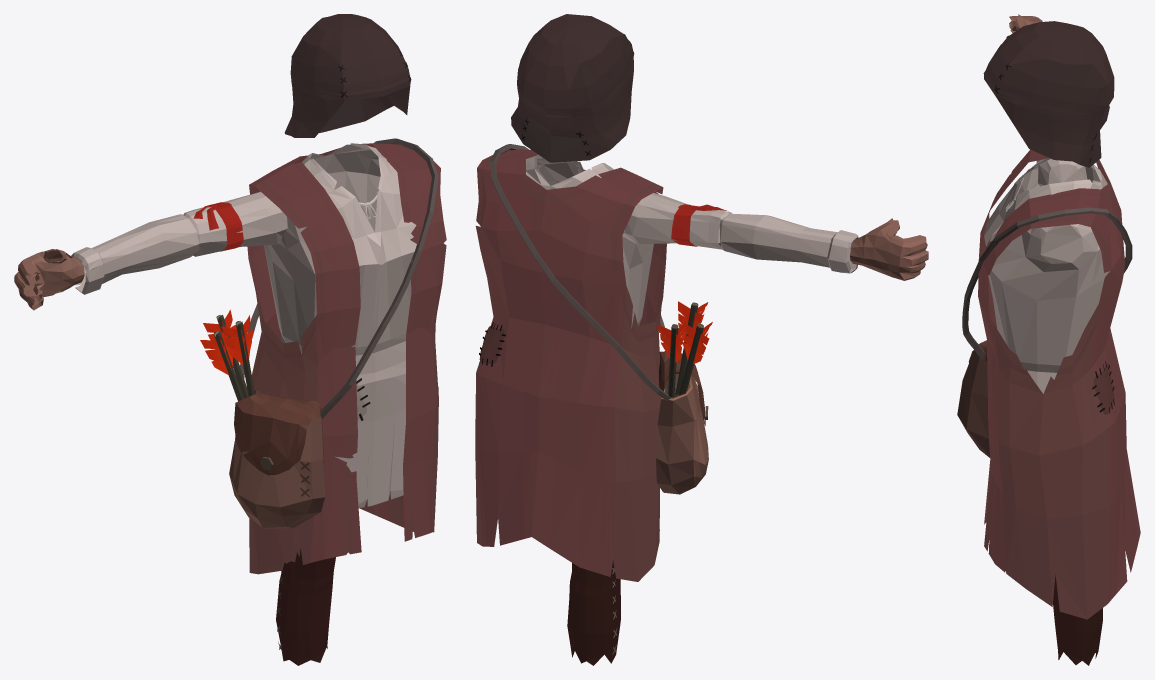
File: peasantFemale.glb
3 renders of one model, left to right at view 1: azimuth 30°, elevation 25°; view 2: azimuth 150°, elevation 25°; view 3: azimuth 270°, elevation 25°, orthographic. The views are drawn at different scales.
Visible parts, largest first — view 1: peasantCoat, peasantManShirt, peasantBagQuiver, peasantManHat, peasantManLowerArm, peasantPantsLowerLeg, peasantManUpperArm, peasantGlove, peasantsPantsUpperLeg; view 2: peasantCoat, peasantManHat, peasantBagQuiver, peasantManLowerArm, peasantPantsLowerLeg, peasantManUpperArm, peasantManShirt, peasantGlove; view 3: peasantCoat, peasantManShirt, peasantManHat, peasantBagQuiver, peasantPantsLowerLeg, peasantManUpperArm, peasantGlove.
Part boxes in pixels (x1,y1,x2,y2): peasantCoat: (247,143,446,574); peasantManShirt: (264,143,416,507); peasantBagQuiver: (200,138,438,528); peasantManHat: (284,14,411,137); peasantManLowerArm: (71,214,199,294); peasantPantsLowerLeg: (276,563,333,665); peasantManUpperArm: (183,191,287,256); peasantGlove: (14,249,84,310); peasantsPantsUpperLeg: (286,548,335,579); peasantCoat: (475,149,666,581); peasantManHat: (511,14,634,162); peasantBagQuiver: (490,144,712,494); peasantManLowerArm: (719,213,858,273); peasantPantsLowerLeg: (567,560,620,665); peasantManUpperArm: (624,193,731,249); peasantManShirt: (526,154,653,328); peasantGlove: (850,218,928,280); peasantCoat: (978,149,1140,619); peasantManShirt: (984,157,1109,393); peasantManHat: (983,21,1114,167); peasantBagQuiver: (957,207,1132,457); peasantPantsLowerLeg: (1053,575,1102,665); peasantManUpperArm: (1036,159,1087,186); peasantGlove: (1009,14,1042,33).
Size of the model in its own units: 1.17 by 1.64 by 0.4235.
